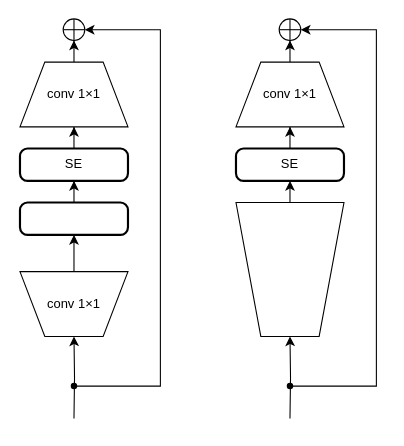
Image size: 404x446. Some labels were removed from this diagram. The shapes that lost their labels are listed below. From the top down, each one's box as (x1, y1, x2, y2) in pixels, then its label:
(18, 201, 129, 235): depth wise conv 3×3
(235, 201, 344, 336): conv 3×3
